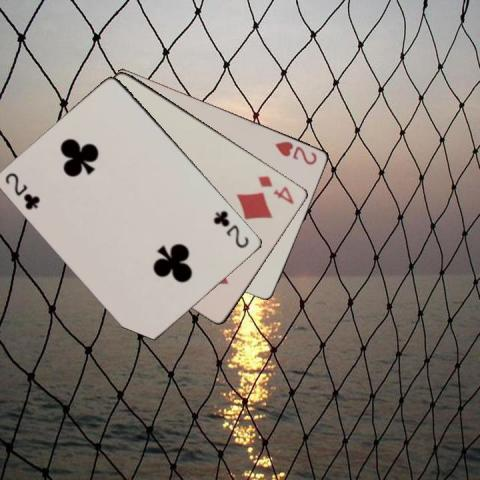2c: (210, 207, 250, 250), (2, 169, 42, 212)
2h: (272, 138, 318, 167)
4d: (255, 173, 296, 206)
